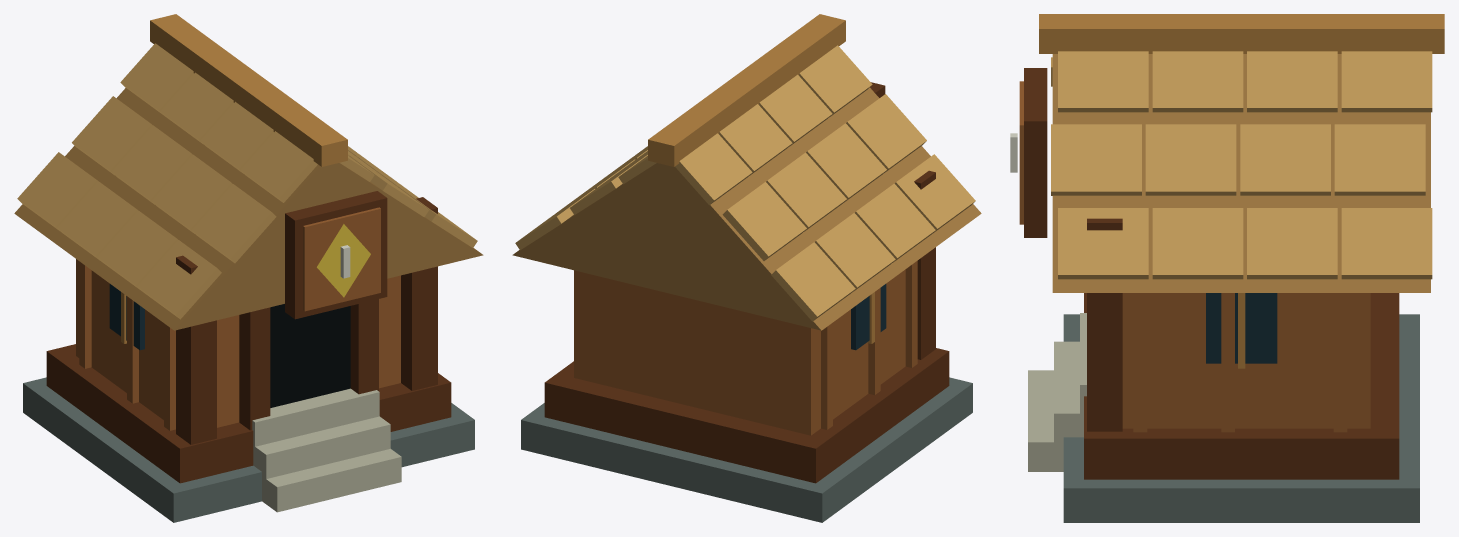
Rendered from barracks_l1.fbx.
3 renders of one model, left to right at view 1: azimuth 30°, elevation 25°; view 2: azimuth 150°, elevation 25°; view 3: azimuth 270°, elevation 25°, orthographic. The views are drawn at different scales.
Visible parts, largest first — view 1: barracks_l1; view 2: barracks_l1; view 3: barracks_l1.
Part boxes in pixels (bbox=[...]): barracks_l1: bbox=[14, 14, 483, 522]; barracks_l1: bbox=[512, 14, 981, 522]; barracks_l1: bbox=[1010, 14, 1444, 522].
Size of the model in its own units: 1.54 by 1.67 by 1.58.
